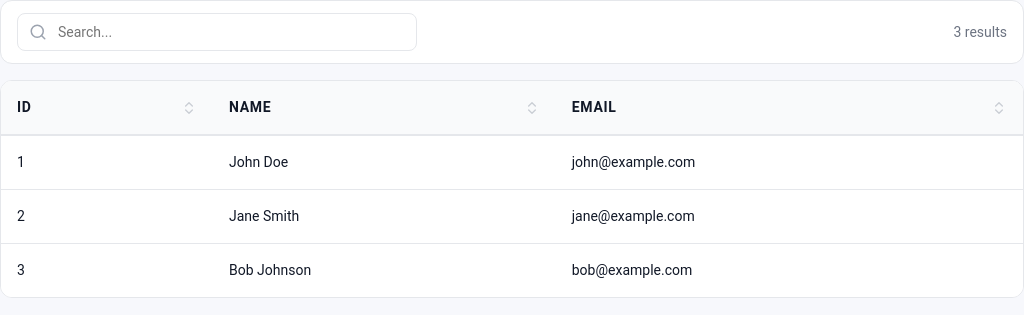
it: Table Component › Filtering › filters data based on search input
The width and height of the screenshot is (1024, 315).
In the field with placeholder "Search...": [217, 32] box [17, 13, 417, 51], type "Jane"
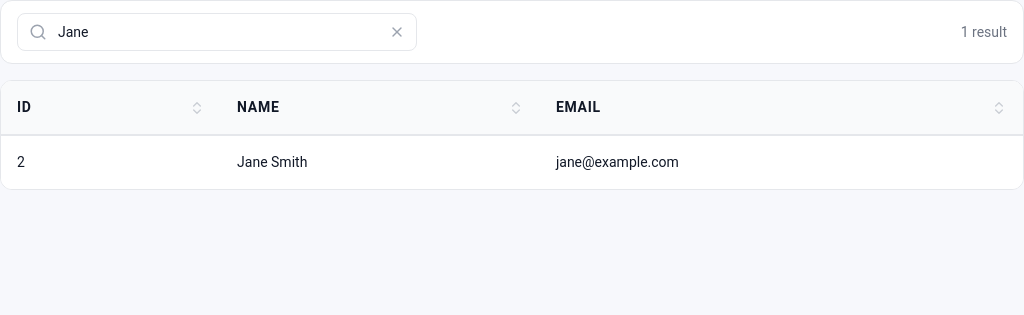
Result: the text "Jane Smith" is shown at [221, 135, 540, 189]
Result: the text "John Doe" is gone
Result: the text "Bob Johnson" is gone
